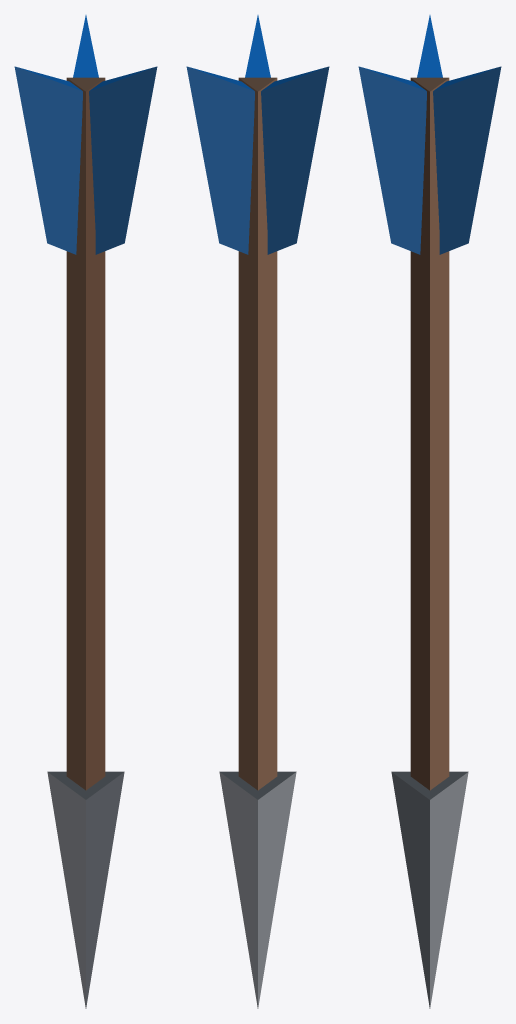
File: TB_ArcherTower_Arrow.FBX
3 views of the same model, side by side, from view 1: azimuth 30°, elevation 25°; view 2: azimuth 150°, elevation 25°; view 3: azimuth 270°, elevation 25° (orthographic).
Parts seen in each view (by area): view 1: TB_ArcherTower_Arrow; view 2: TB_ArcherTower_Arrow; view 3: TB_ArcherTower_Arrow.
Boxes of the visible parts, left/top/right/bottom form: TB_ArcherTower_Arrow: left=14, top=15, right=157, bottom=1008; TB_ArcherTower_Arrow: left=186, top=15, right=329, bottom=1008; TB_ArcherTower_Arrow: left=358, top=15, right=501, bottom=1008.
Size of the model in its own units: 0.2853 by 2.38 by 0.3209.
